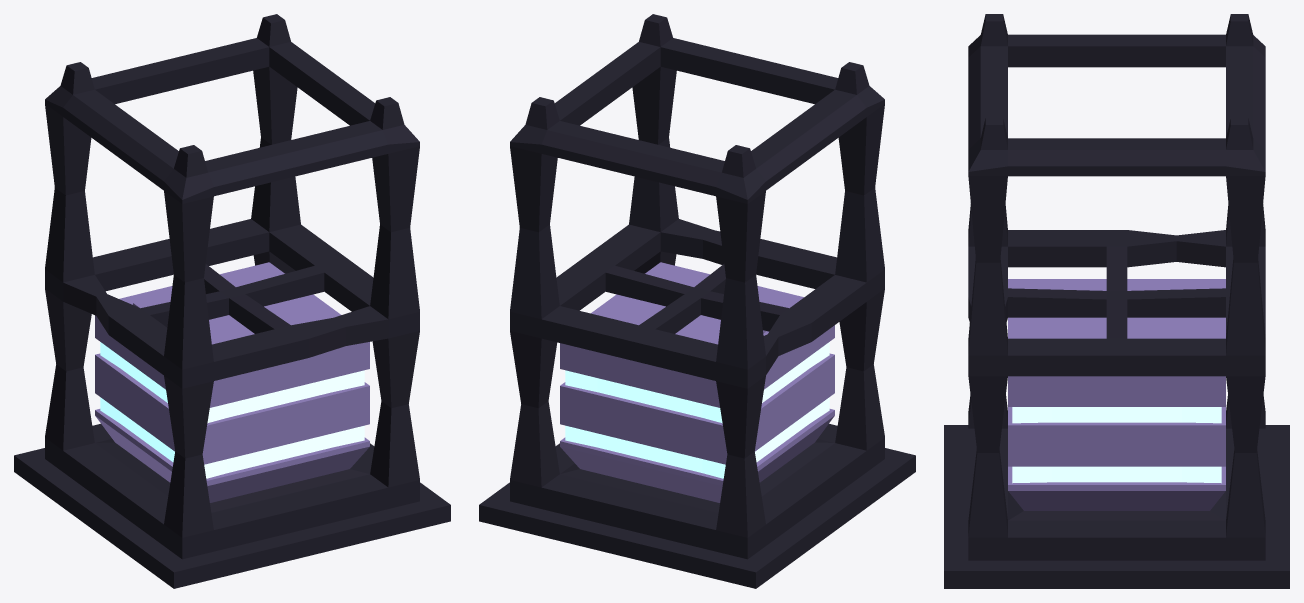
The model's file is Crate_On_Shelf.fbx.
3 renders of one model, left to right at view 1: azimuth 30°, elevation 25°; view 2: azimuth 150°, elevation 25°; view 3: azimuth 270°, elevation 25°, orthographic. The views are drawn at different scales.
Parts seen in each view (by area): view 1: Crate_Shelf; view 2: Crate_Shelf; view 3: Crate_Shelf.
Part boxes in pixels (left/top/right/bottom): Crate_Shelf: left=14, top=14, right=450, bottom=588; Crate_Shelf: left=479, top=14, right=915, bottom=588; Crate_Shelf: left=944, top=14, right=1289, bottom=588.
Size of the model in its own units: 1.75 by 2.49 by 1.75.
